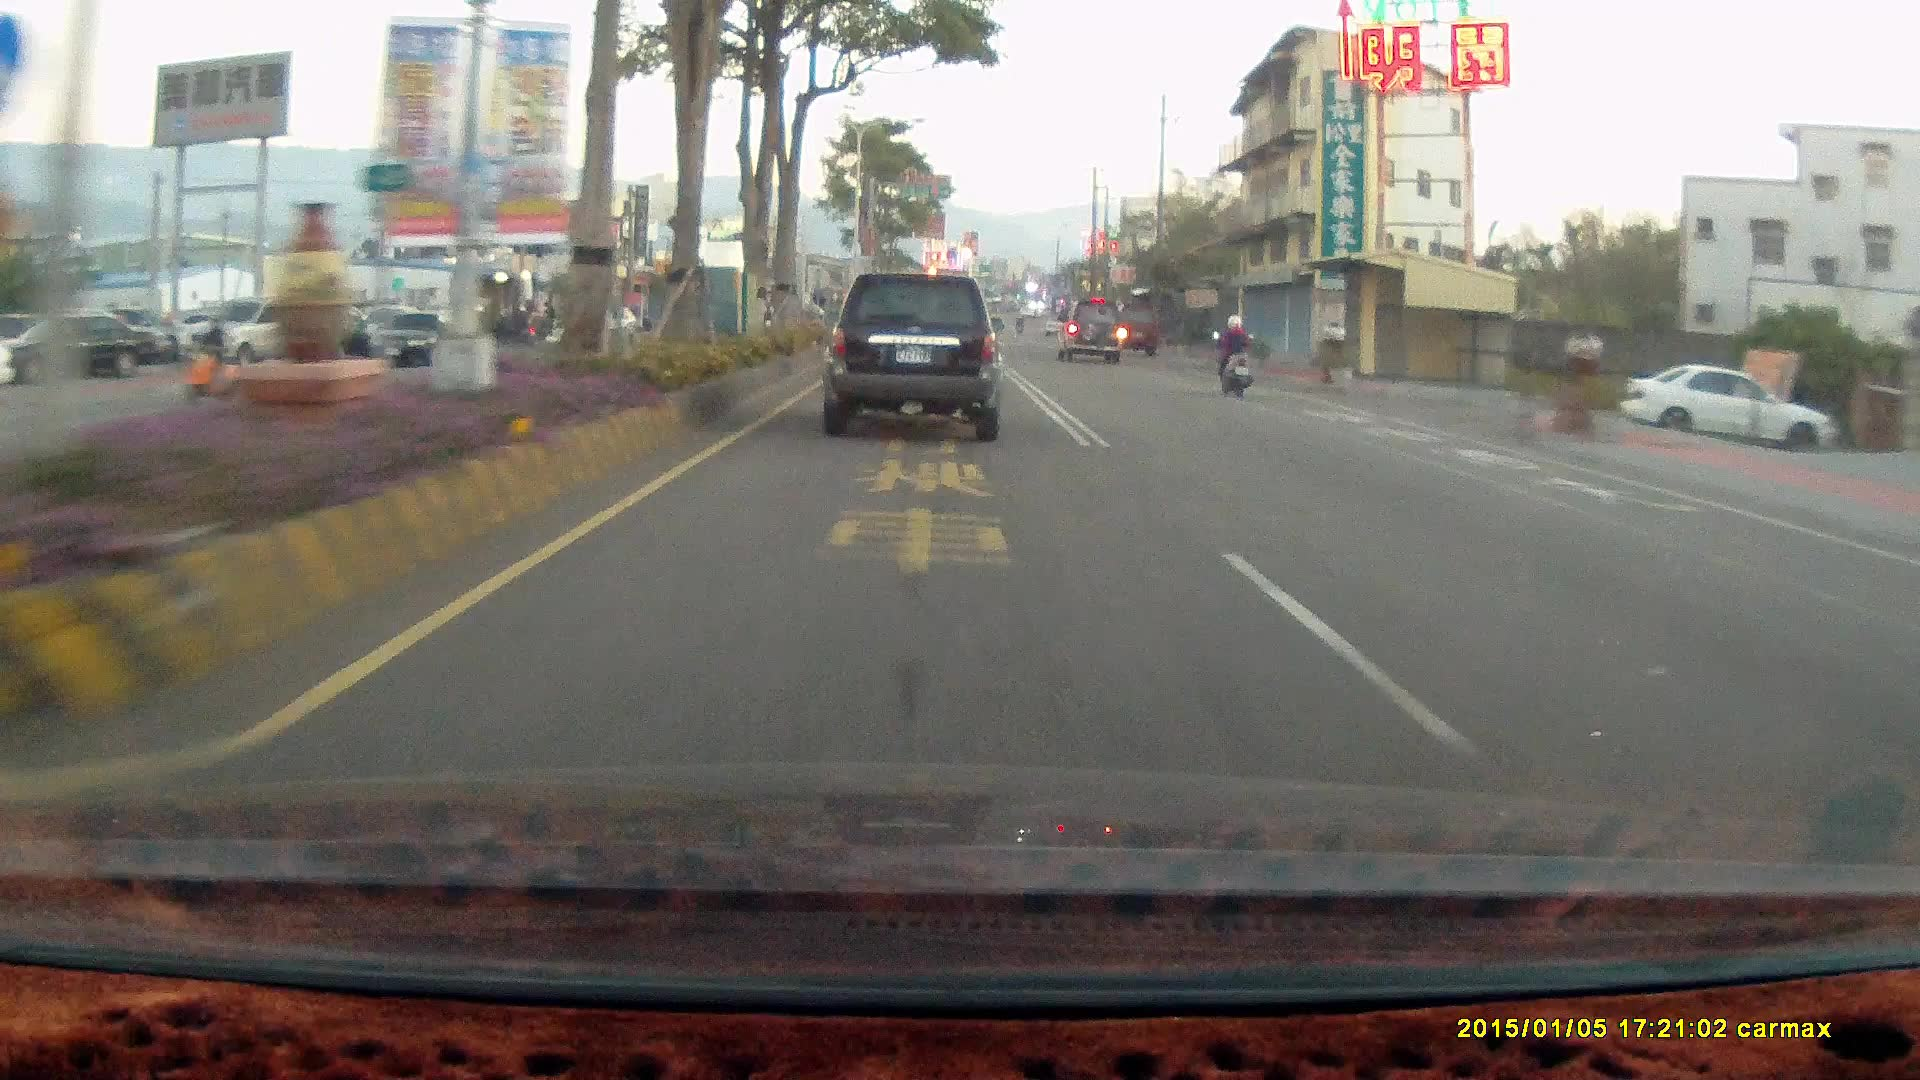rider: (1204, 307, 1265, 407), (180, 319, 232, 400), (1210, 304, 1253, 388)
vehicle: (820, 272, 1002, 441), (826, 273, 1009, 440), (1620, 360, 1836, 449), (1630, 360, 1836, 449), (1, 306, 154, 390), (0, 312, 163, 387), (176, 289, 327, 366), (173, 287, 324, 363), (360, 309, 473, 370), (363, 308, 470, 365), (1055, 298, 1123, 364), (1060, 298, 1128, 362), (1110, 296, 1159, 350)
